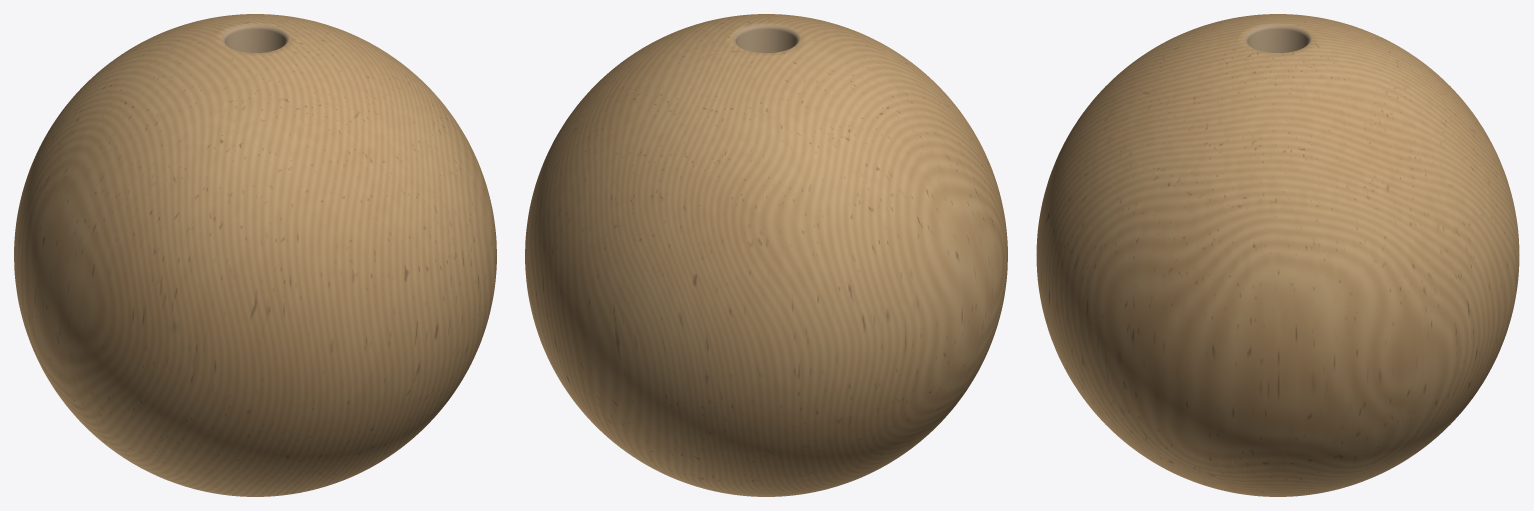
File: laoshan-sandalwood-8mm.glb
The picture shows the model from 3 angles, left to right: view 1: azimuth 30°, elevation 25°; view 2: azimuth 150°, elevation 25°; view 3: azimuth 270°, elevation 25°; orthographic projection.
Parts seen in each view (by area): view 1: laoshan-sandalwood; view 2: laoshan-sandalwood; view 3: laoshan-sandalwood.
Boxes of the visible parts, x1,y1,x2,y2 form: laoshan-sandalwood: (14,14,496,496); laoshan-sandalwood: (525,14,1007,496); laoshan-sandalwood: (1036,14,1519,496).
Bounding box in the file's own units: 0.008 × 0.00792 × 0.008.
Materials: 2 (1 with a texture image).
